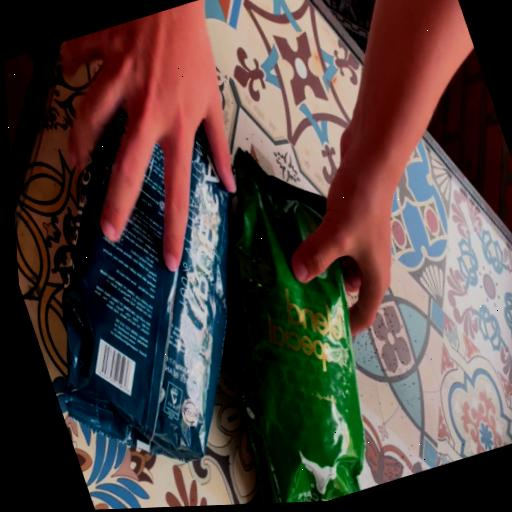cafe_hat: (59, 113, 230, 461)
cafe_xay: (230, 149, 365, 504)
